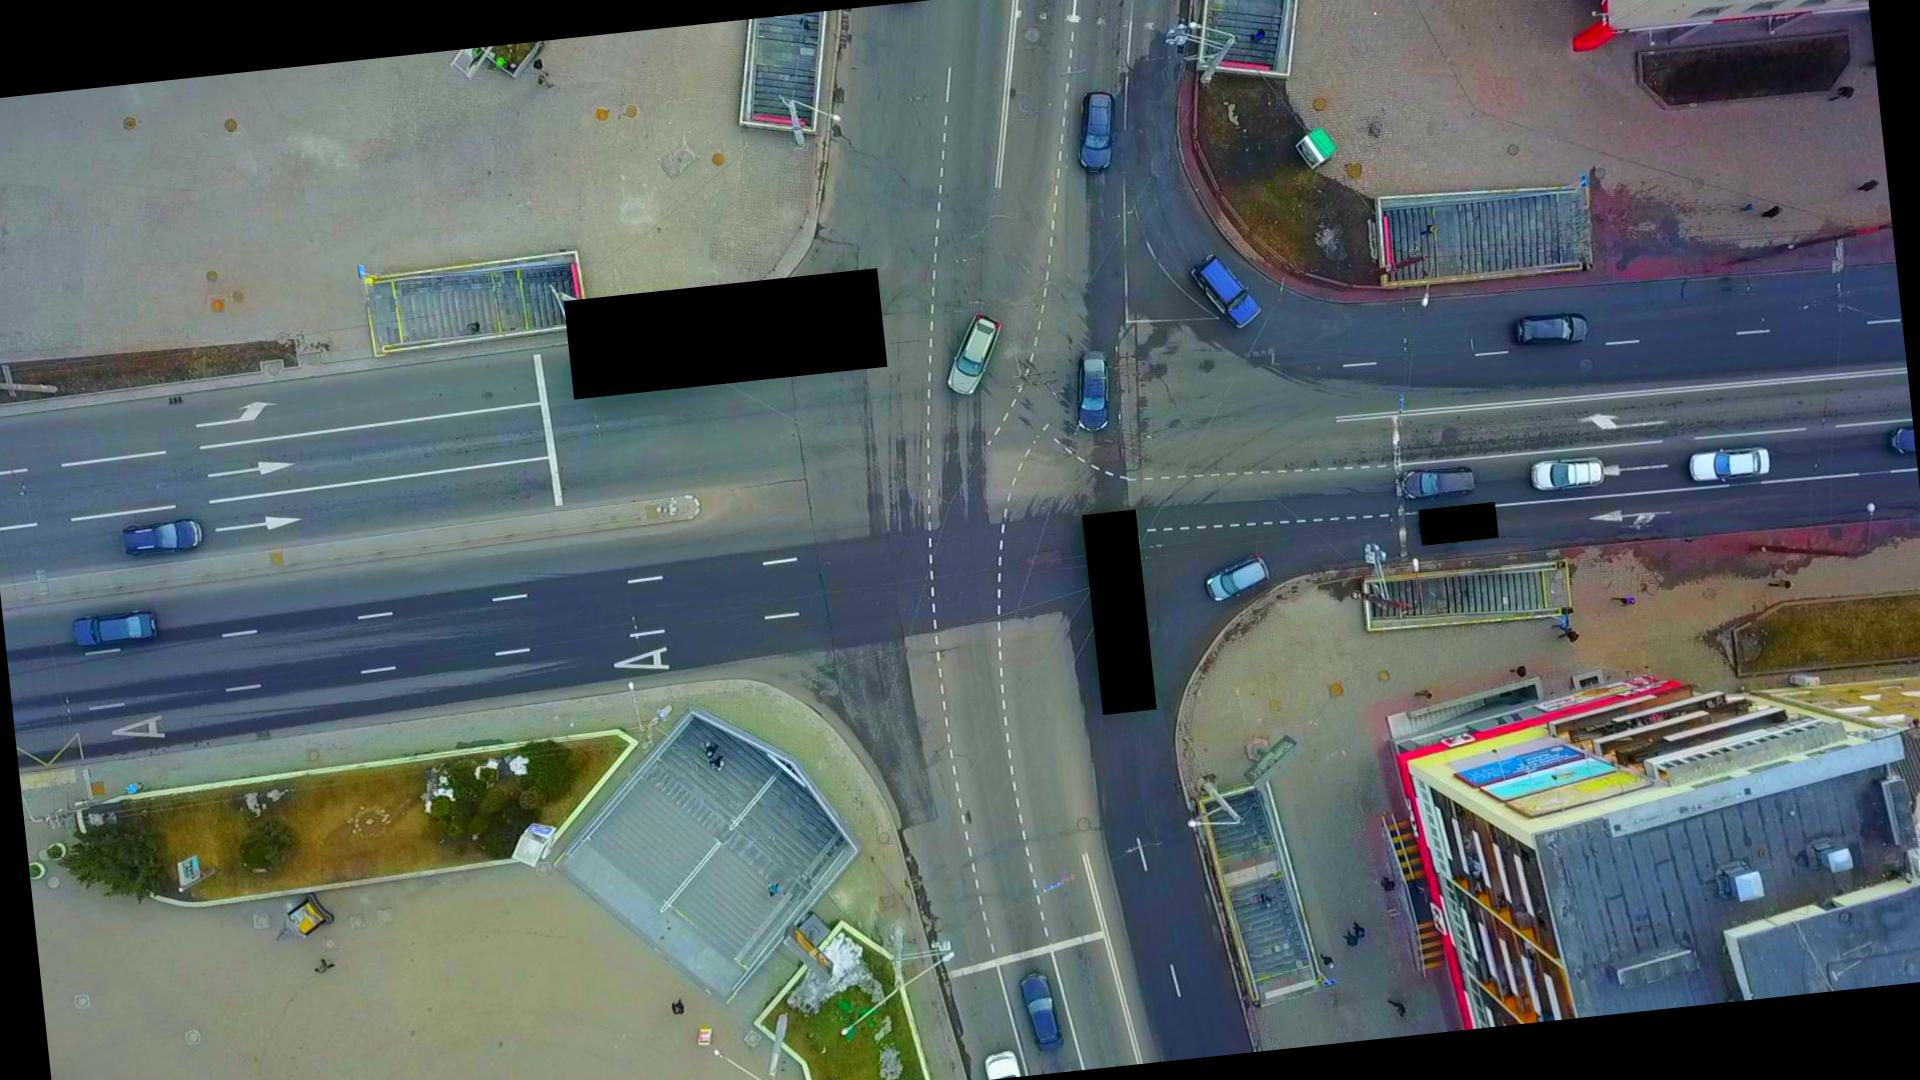vehicle: (1185, 251, 1263, 335), (938, 311, 1009, 398), (1069, 88, 1124, 177), (1015, 967, 1065, 1056), (1069, 348, 1117, 434), (69, 607, 162, 649), (117, 517, 204, 562), (1687, 443, 1774, 487), (1507, 310, 1593, 352), (1398, 463, 1478, 506), (1201, 555, 1273, 604), (1528, 454, 1607, 497)
